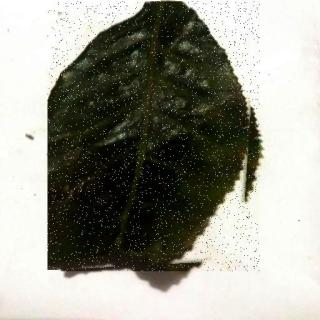Red Leaf Spot: (49, 3, 262, 273)
